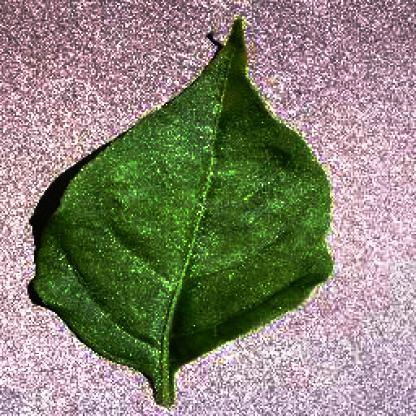Healthy: (28, 15, 332, 406)
